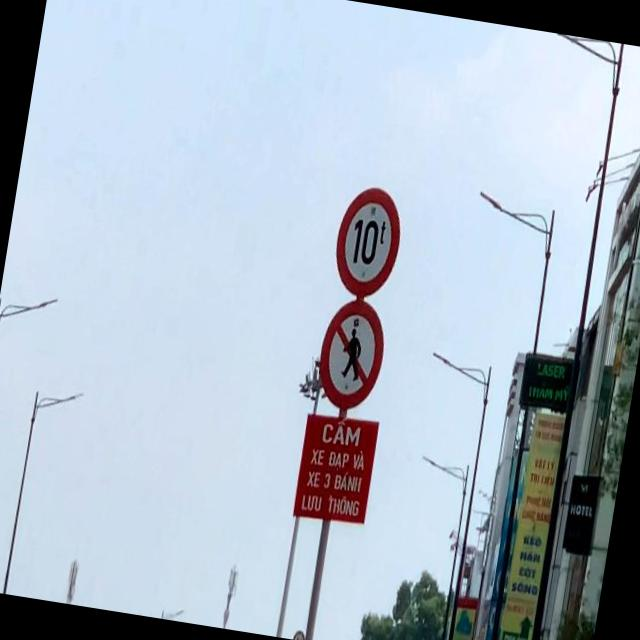P-112: (314, 296, 391, 412)
P-115: (328, 182, 409, 302)
